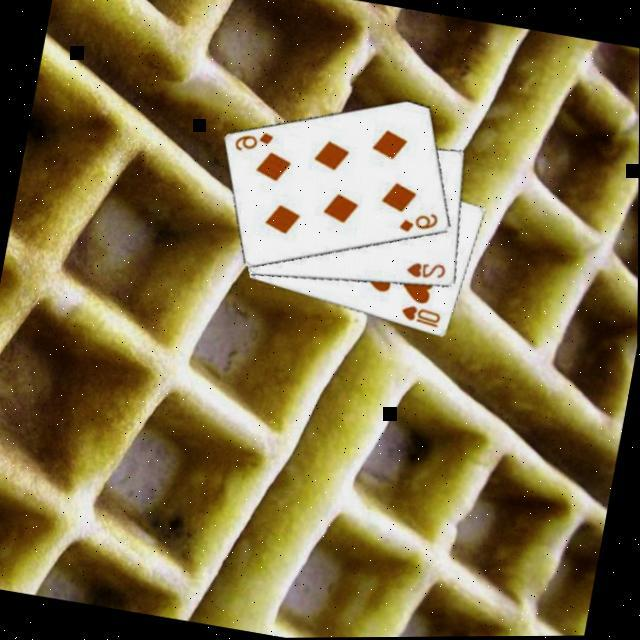10H: (398, 302, 446, 332)
2H: (404, 258, 452, 288)
6D: (397, 206, 444, 242), (232, 125, 278, 160)
